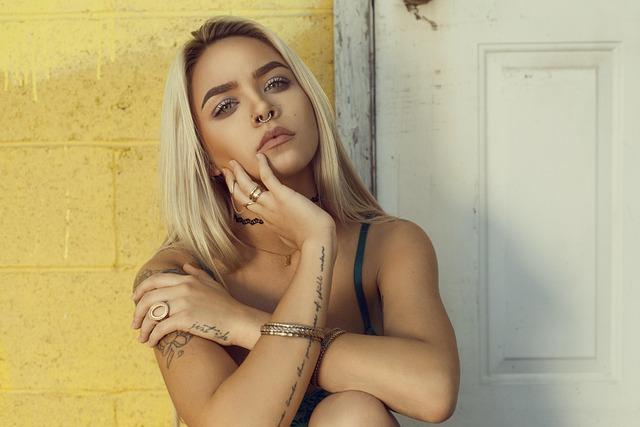Non_Gorille: (113, 3, 498, 427)
